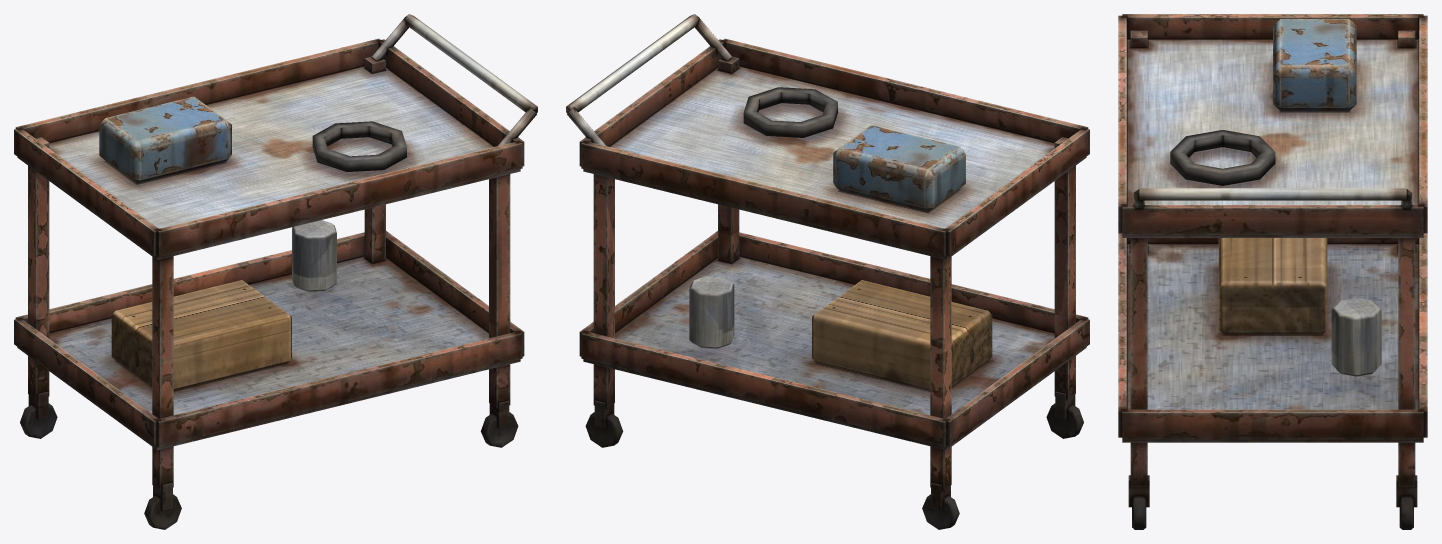
File: carrinho.glb
3 renders of one model, left to right at view 1: azimuth 30°, elevation 25°; view 2: azimuth 150°, elevation 25°; view 3: azimuth 270°, elevation 25°, orthographic. The views are drawn at different scales.
Parts seen in each view (by area): view 1: carrinho; view 2: carrinho; view 3: carrinho.
Part boxes in pixels (bbox=[...]): carrinho: bbox=[14, 14, 537, 529]; carrinho: bbox=[566, 14, 1089, 529]; carrinho: bbox=[1118, 14, 1427, 529].
Size of the model in its own units: 1.16 by 0.946 by 0.74.
1 material, 1 textured.
